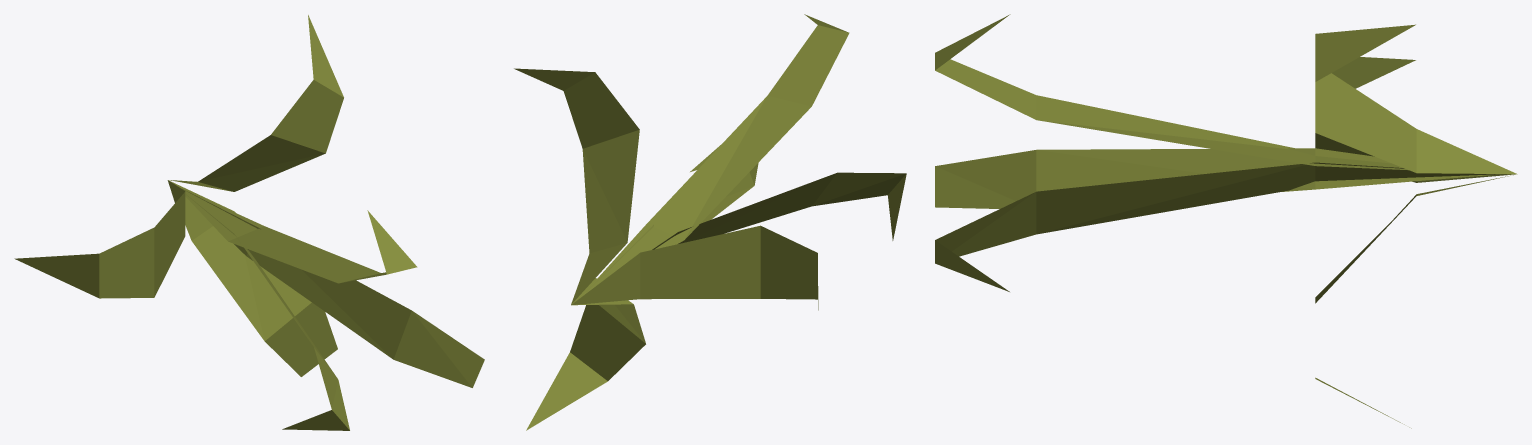
The model's file is stage_4.obj.
3 renders of one model, left to right at view 1: azimuth 30°, elevation 25°; view 2: azimuth 150°, elevation 25°; view 3: azimuth 270°, elevation 25°, orthographic. The views are drawn at different scales.
Visible parts, largest first — view 1: potatoplant; view 2: potatoplant; view 3: potatoplant.
Part boxes in pixels (x1,y1,x2,y2): potatoplant: (14,15,484,430); potatoplant: (514,14,906,430); potatoplant: (935,14,1517,428).
Bounding box in the file's own units: 0.48 × 0.54 × 0.69.
